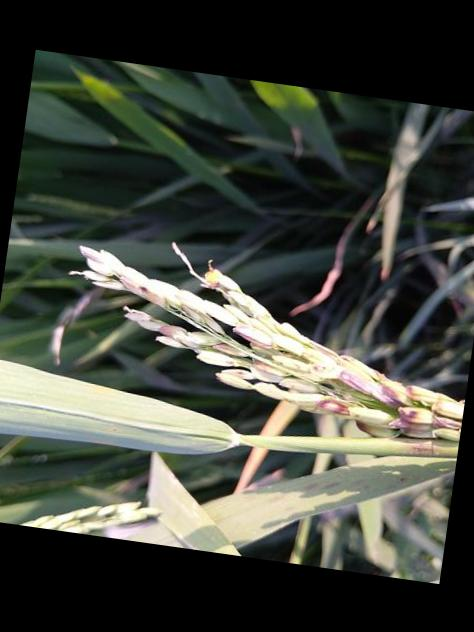Panicle Blight: (232, 322, 274, 348), (388, 416, 433, 438), (339, 368, 373, 393), (367, 386, 402, 408), (253, 358, 291, 377), (397, 405, 433, 424), (433, 397, 464, 419), (312, 340, 342, 362), (219, 364, 256, 380), (211, 342, 249, 357), (405, 383, 436, 401), (380, 383, 406, 404), (320, 398, 351, 415), (433, 412, 462, 430), (80, 244, 105, 262), (143, 288, 167, 306), (118, 276, 140, 293), (158, 323, 187, 335), (311, 360, 328, 373)
